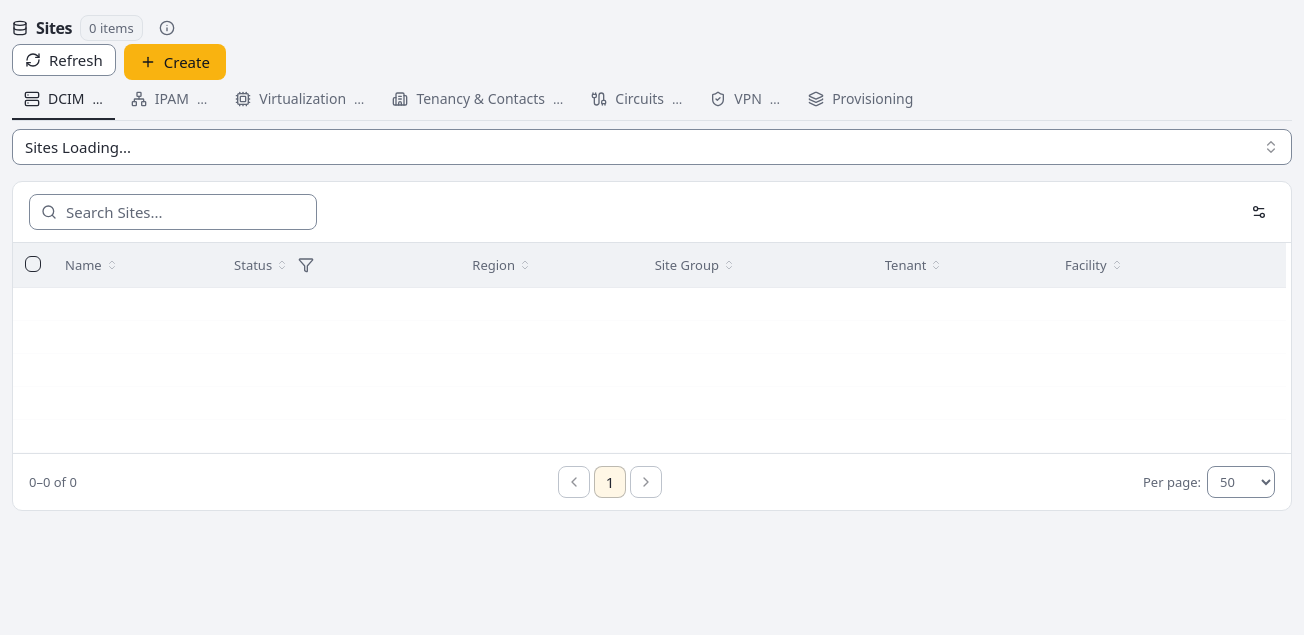
Test: InventoryResources list › does not report missing or failed count queries as known zero
Click the dropdown named "DCIM" at (78, 147), box left=12, top=129, right=1292, bottom=165
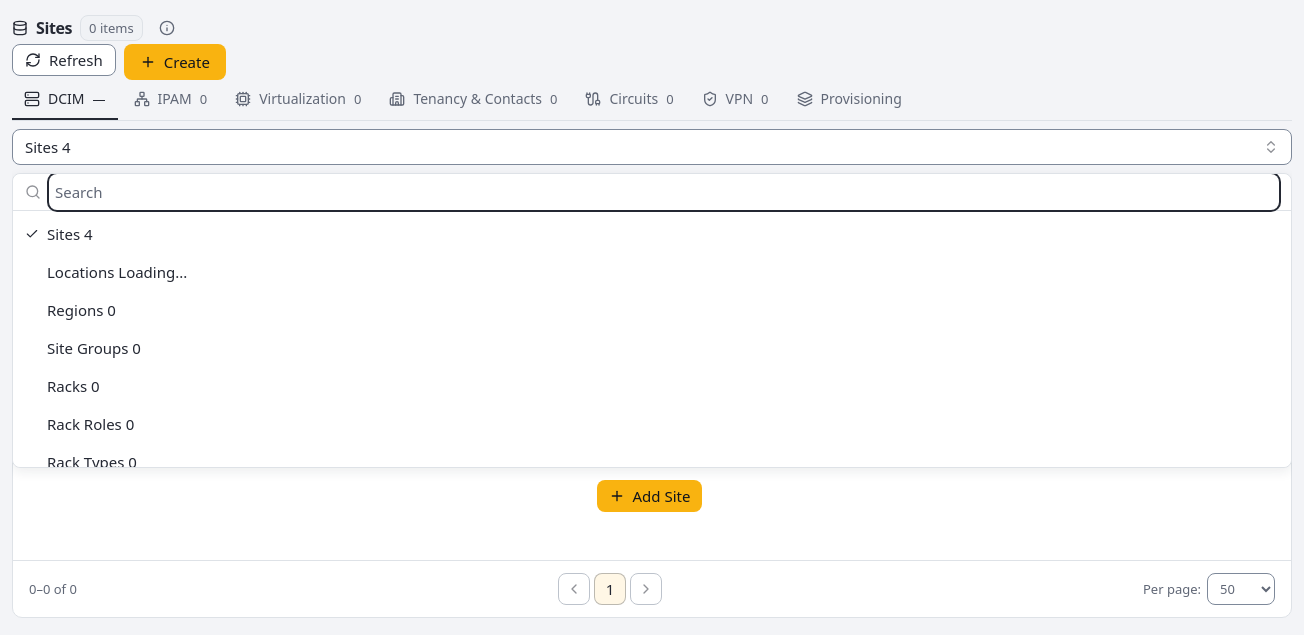
Check: the link named "DCIM Unknown error" is shown, box left=12, top=80, right=118, bottom=120
Check: the option "Locations Loading..." is shown, box left=47, top=262, right=187, bottom=282
Check: the option "Sites 4" is shown, box left=25, top=224, right=93, bottom=244
